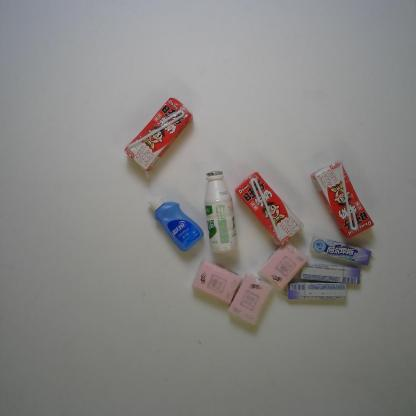Candy: (309, 234, 375, 267), (300, 260, 364, 285), (282, 280, 347, 302)
Milk: (233, 169, 306, 247), (123, 96, 193, 174), (310, 158, 376, 240), (203, 169, 239, 254)
Personal Hygiene: (148, 198, 206, 254)
Tissue: (258, 240, 311, 292), (227, 272, 274, 327), (191, 258, 244, 306)
